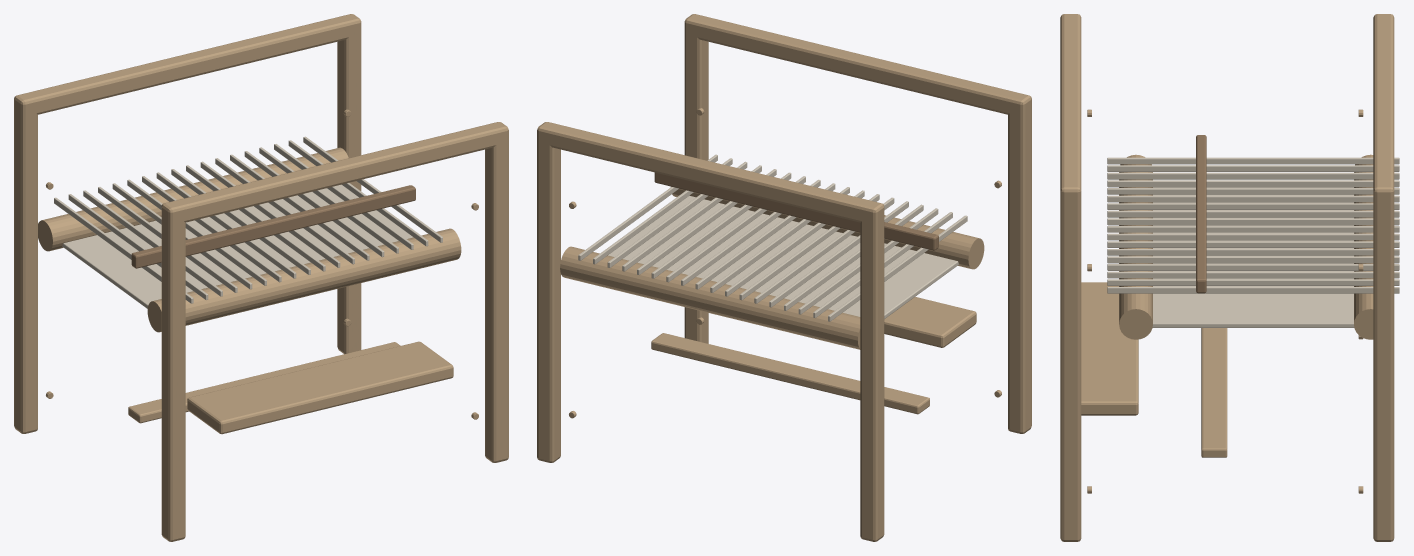
3 renders of one model, left to right at view 1: azimuth 30°, elevation 25°; view 2: azimuth 150°, elevation 25°; view 3: azimuth 270°, elevation 25°, orthographic. The views are drawn at different scales.
Visible parts, largest first — view 1: loom_0, loom_2, loom_1; view 2: loom_0, loom_2, loom_1; view 3: loom_2, loom_0, loom_1.
Part boxes in pixels (bbox=[...]): loom_0: bbox=[14, 14, 508, 541]; loom_2: bbox=[54, 136, 442, 308]; loom_1: bbox=[131, 185, 415, 268]; loom_0: bbox=[537, 14, 1031, 541]; loom_2: bbox=[578, 154, 967, 321]; loom_1: bbox=[654, 172, 938, 250]; loom_2: bbox=[1107, 157, 1399, 327]; loom_0: bbox=[1060, 14, 1394, 541]; loom_1: bbox=[1196, 135, 1206, 293].
Bounding box in the file's own units: 1.6 × 1.5 × 1.3.
